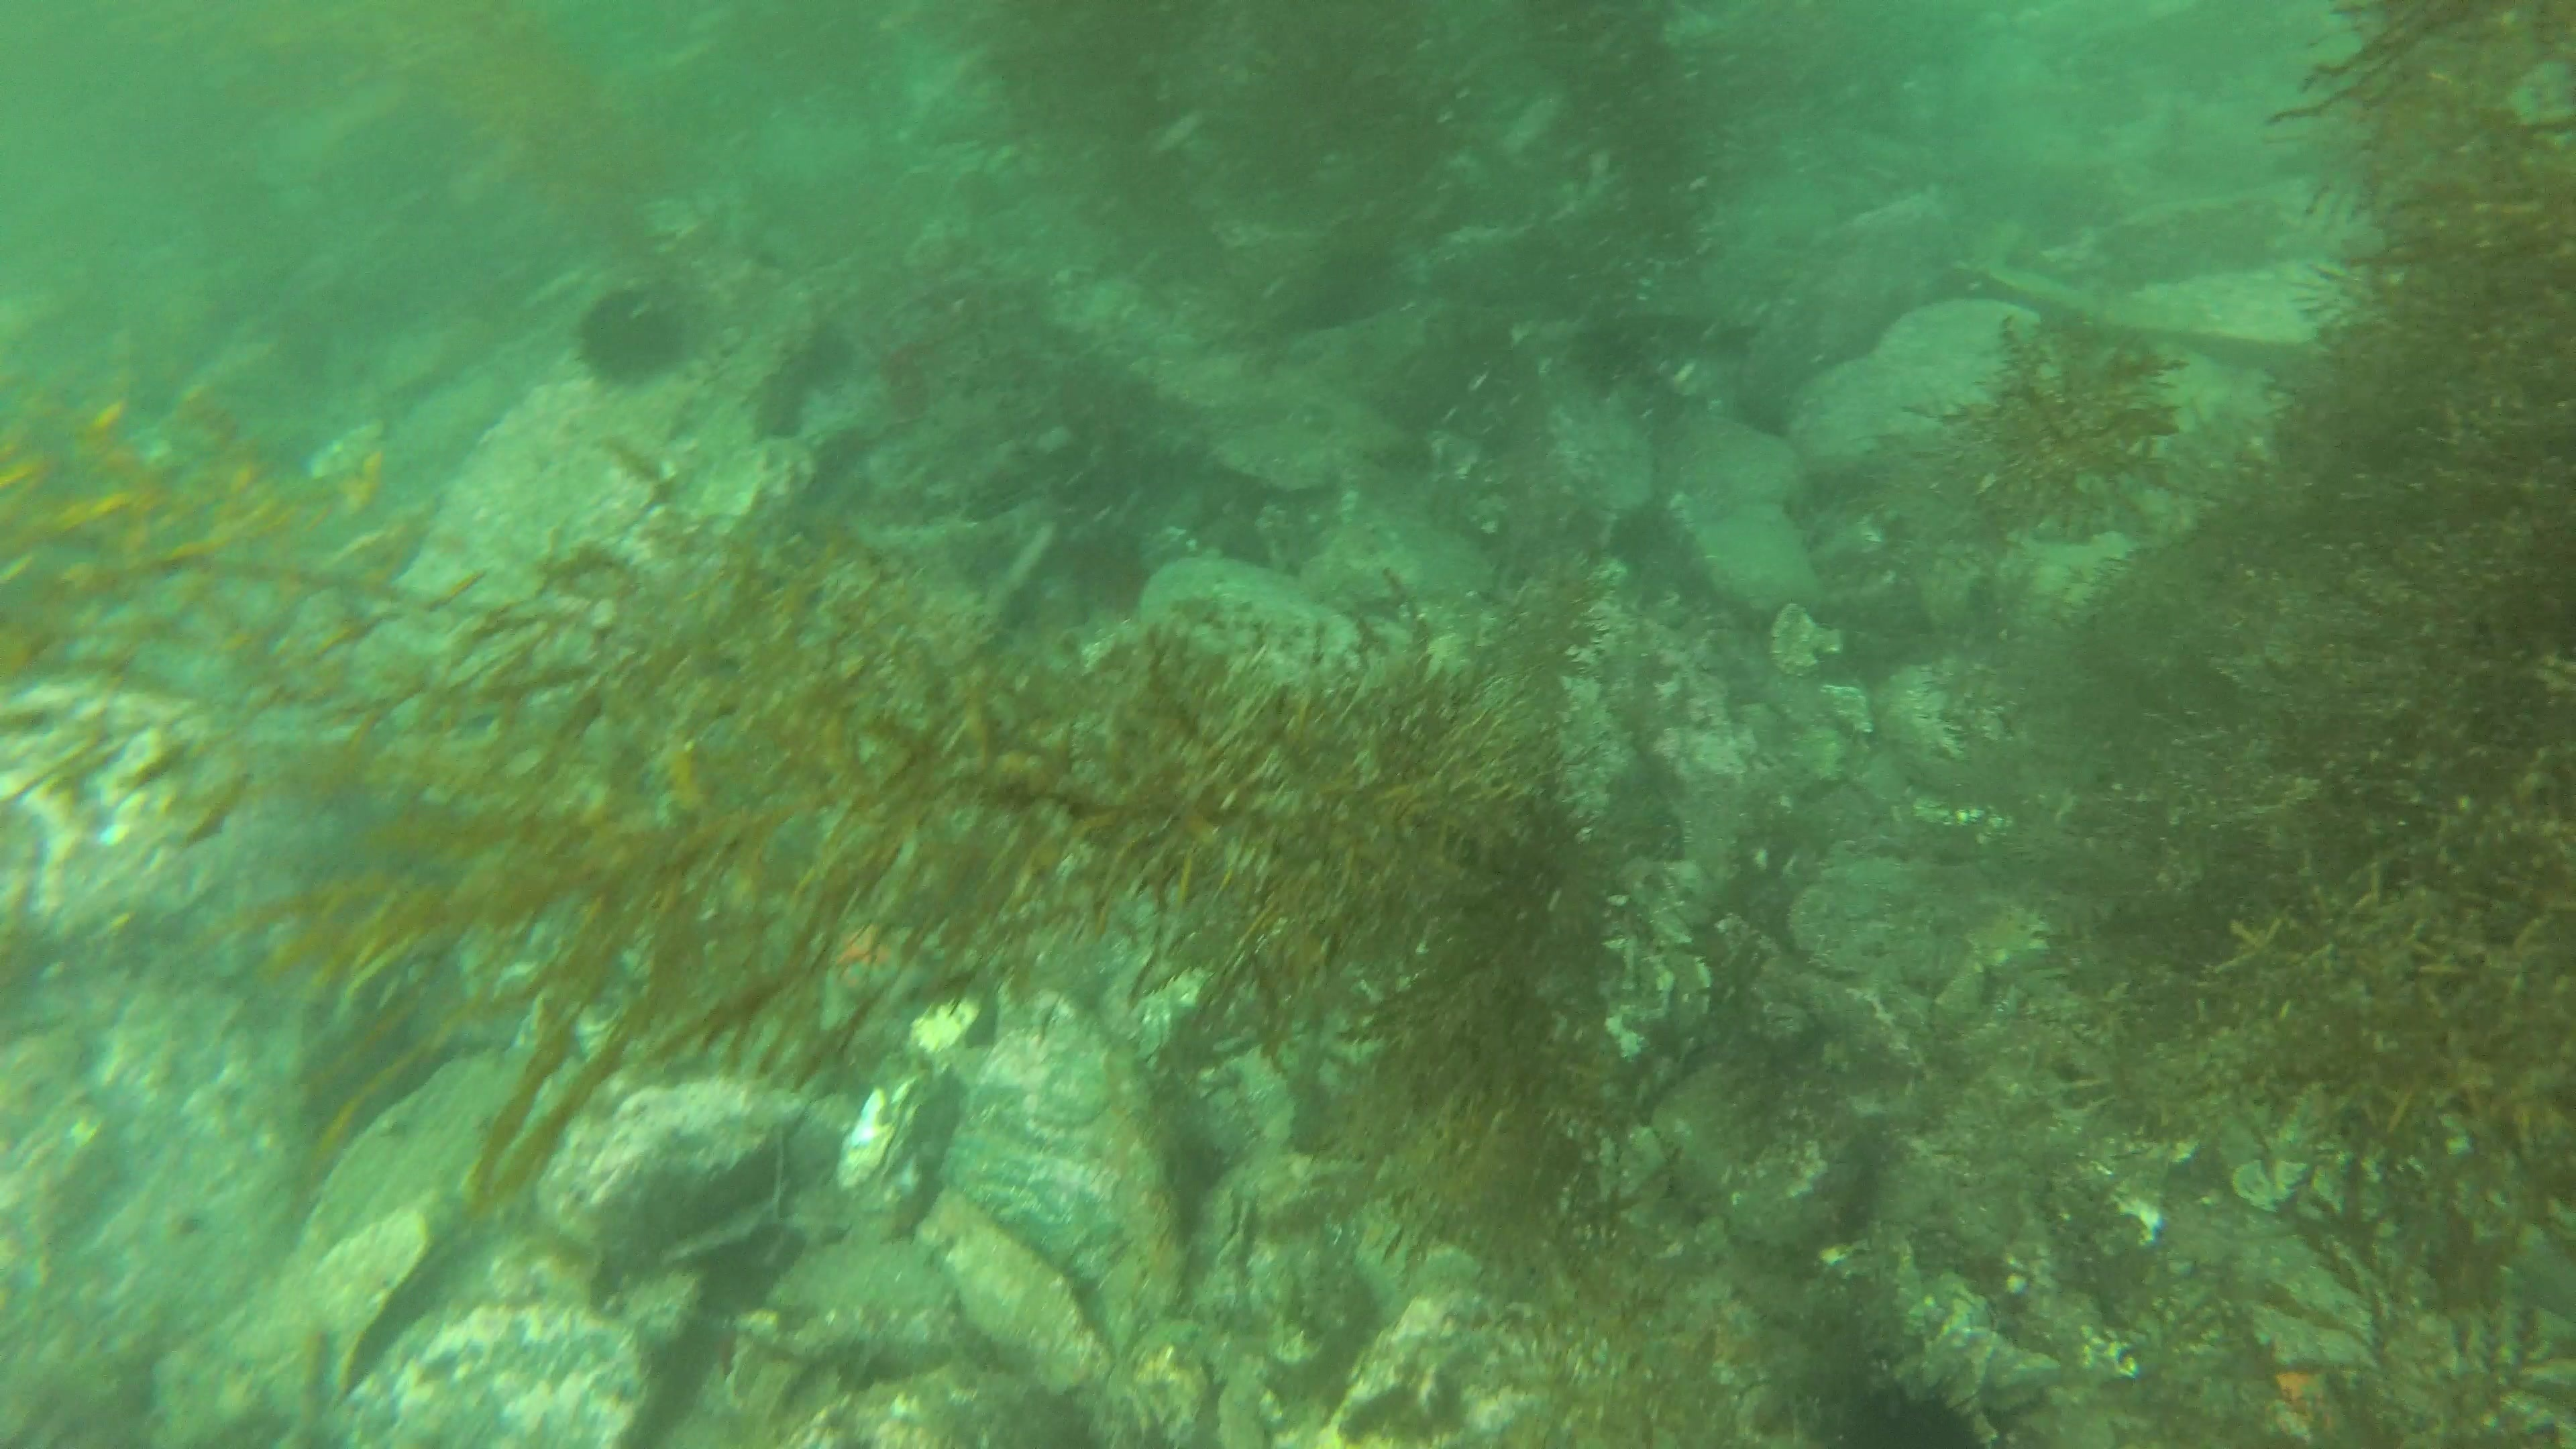echinus: (566, 280, 697, 393)
